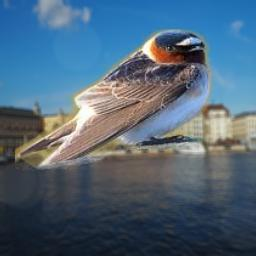Swallow: (15, 29, 213, 171)
